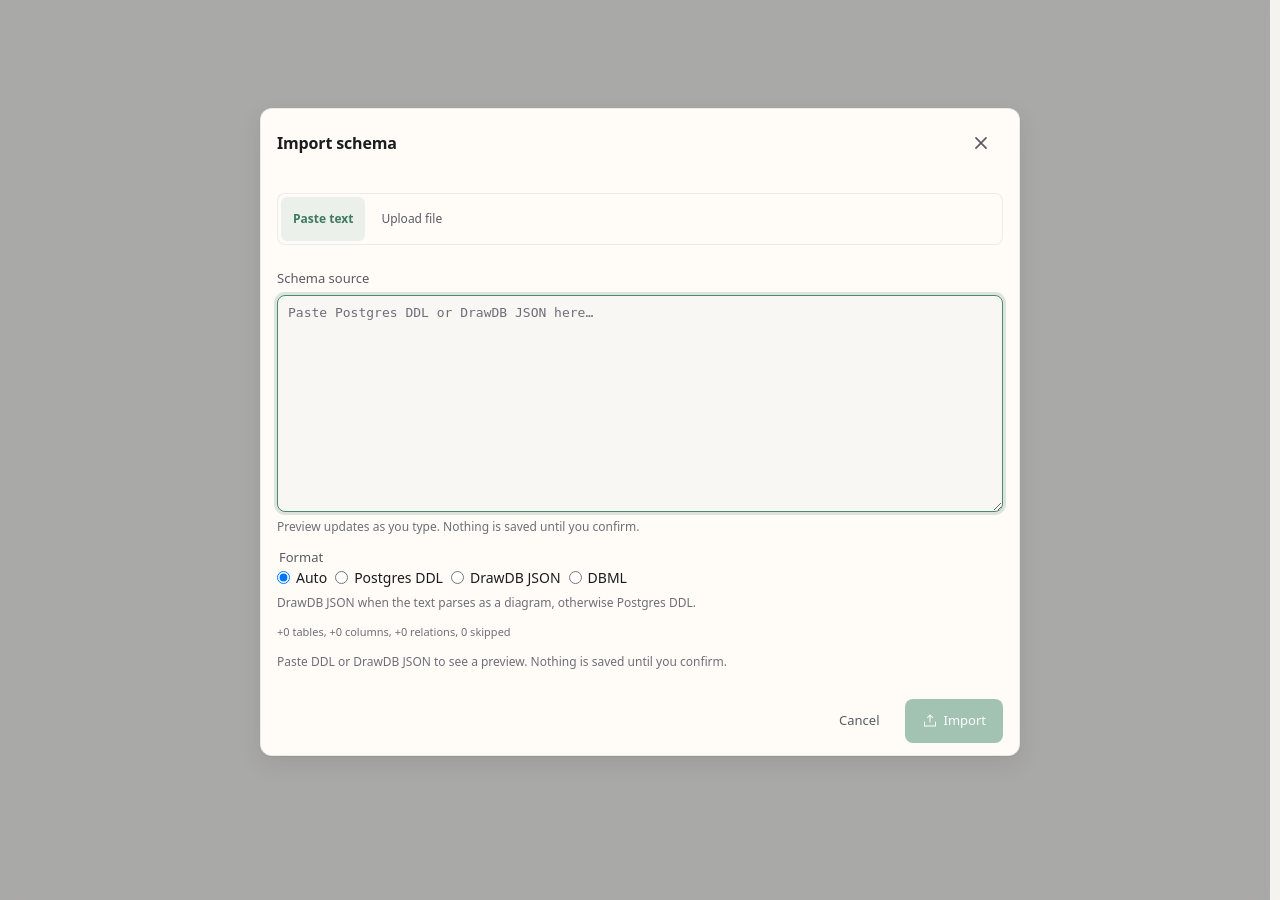
ImportSchemaModal › copy errors copies the per-line warnings to the clipboard
Type "CREATE VIEW v AS SELECT 1;" into the text box labelled "Schema source" at {"x": 640, "y": 403}, box x1=277 y1=294 x2=1003 y2=512
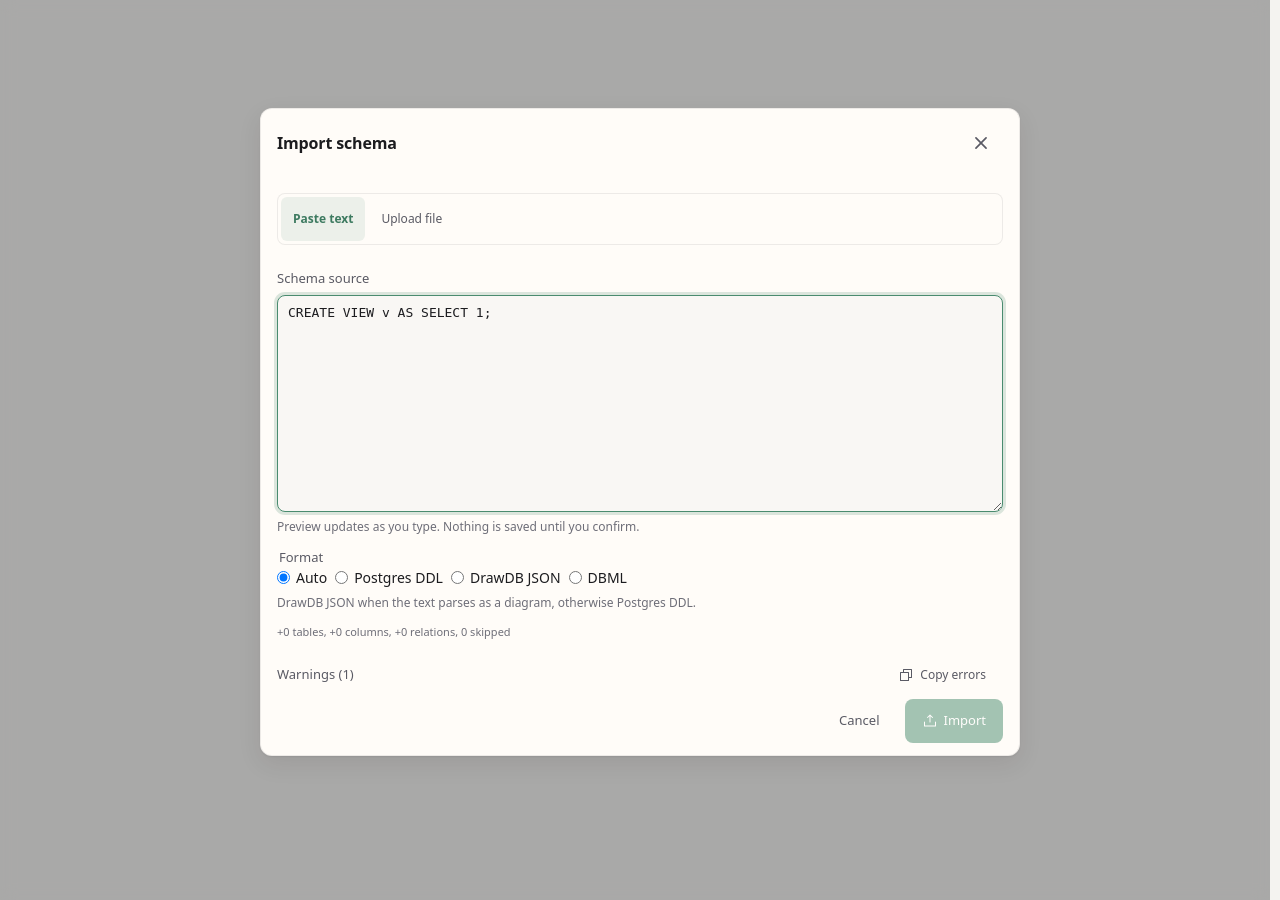
Click the button "Copy errors" at {"x": 942, "y": 675}, box x1=881 y1=653 x2=1003 y2=697
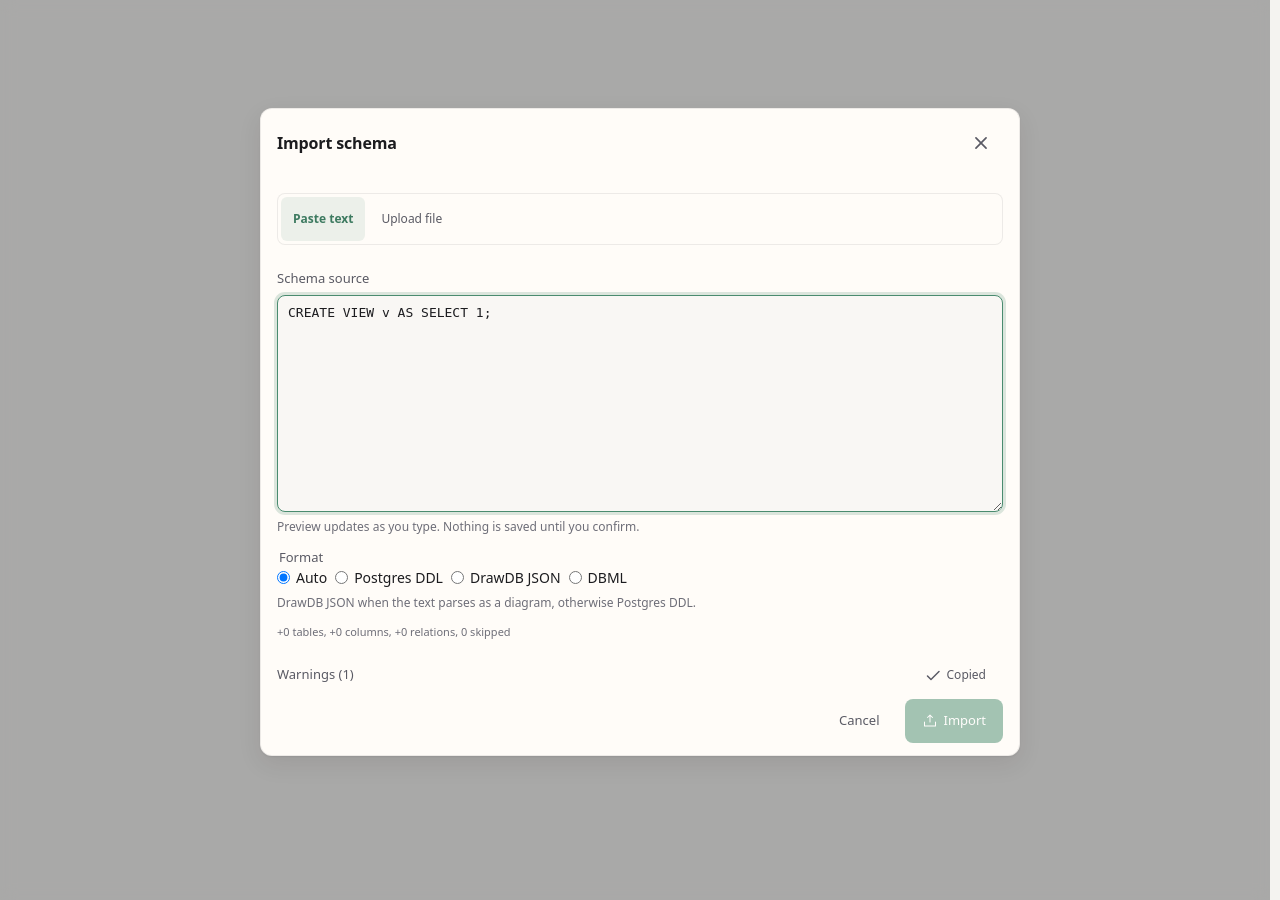
Now the button "Copied" is shown, box x1=908 y1=653 x2=1003 y2=687
